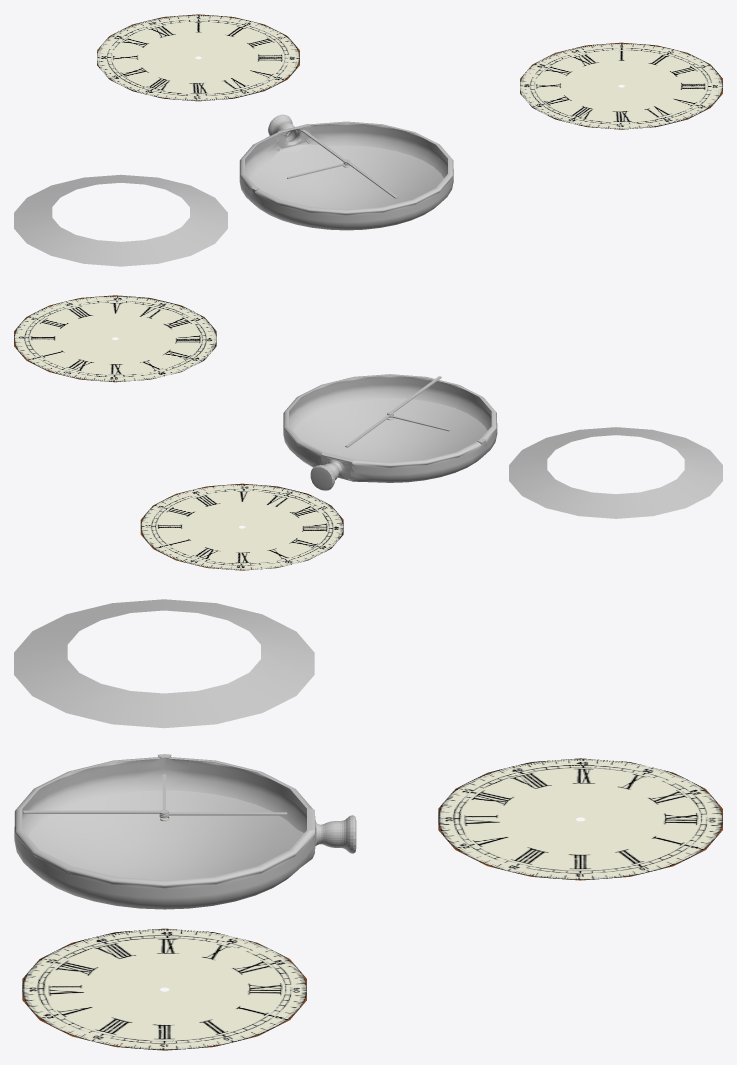
File: watch.FBX
3 renders of one model, top to bottom at view 1: azimuth 30°, elevation 25°; view 2: azimuth 150°, elevation 25°; view 3: azimuth 270°, elevation 25°, orthographic. The views are drawn at different scales.
Visible parts, largest first — view 1: Object001, Object006, Object002, Object008, Object007; view 2: Object001, Object006, Object002, Object007, Object008; view 3: Object001, Object006, Object002, Object007, Object008.
Part boxes in pixels (left/top/right/bottom): Object001: left=239, top=114, right=453, bottom=230; Object006: left=520, top=42, right=722, bottom=129; Object002: left=14, top=174, right=227, bottom=266; Object008: left=110, top=36, right=299, bottom=101; Object007: left=97, top=14, right=286, bottom=79; Object001: left=283, top=374, right=497, bottom=490; Object006: left=14, top=295, right=216, bottom=382; Object002: left=509, top=427, right=722, bottom=518; Object007: left=140, top=505, right=330, bottom=570; Object008: left=153, top=483, right=343, bottom=548; Object001: left=14, top=754, right=356, bottom=909; Object006: left=22, top=928, right=306, bottom=1050; Object002: left=14, top=599, right=314, bottom=728; Object007: left=580, top=758, right=722, bottom=880; Object008: left=438, top=758, right=580, bottom=880.
Size of the model in its own units: 113 by 9.6 by 72.44.
